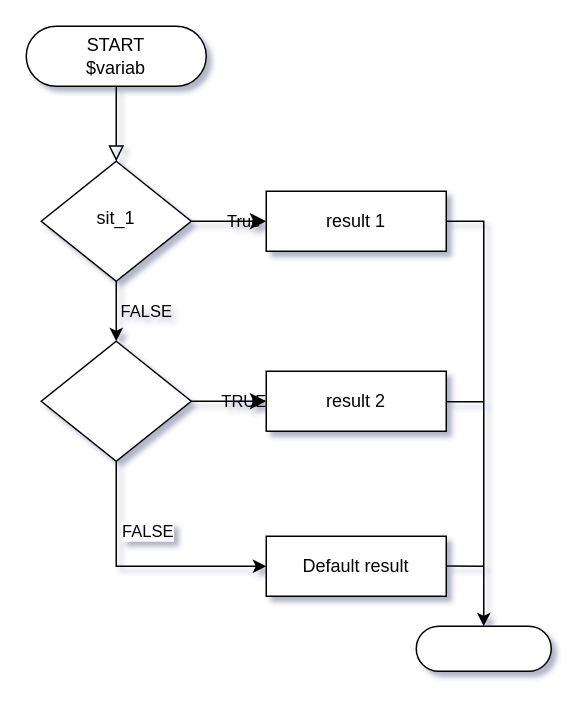
Some shapes in this 587 by 707 pixel diagram are drawn without their labels. Here are the shapes that lost their labels. From the top down, the centre of each, then its label:
At (115,400): "sit_2".
At (483,648): "END".
